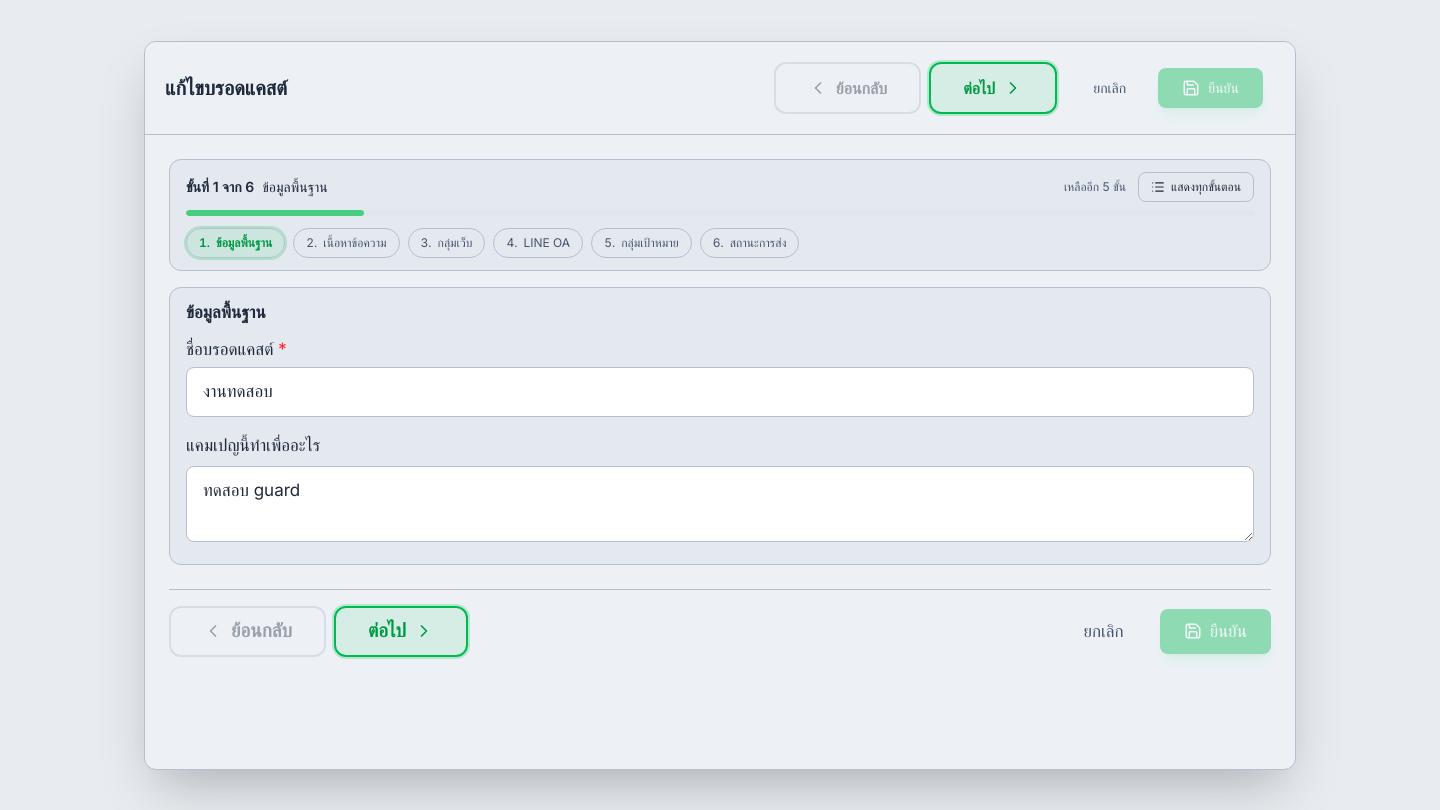
it: [GUARDWINDOW-FE] ช่องโผล่เมื่อไหร่ › ⭐⭐ multicast + rule บนคีย์ที่ติดธง ⇒ เห็นช่อง · ค่าเดิมโชว์
The width and height of the screenshot is (1440, 810).
Click the button with test id "-toggle".
click(1196, 186)  # box [1138, 172, 1254, 202]
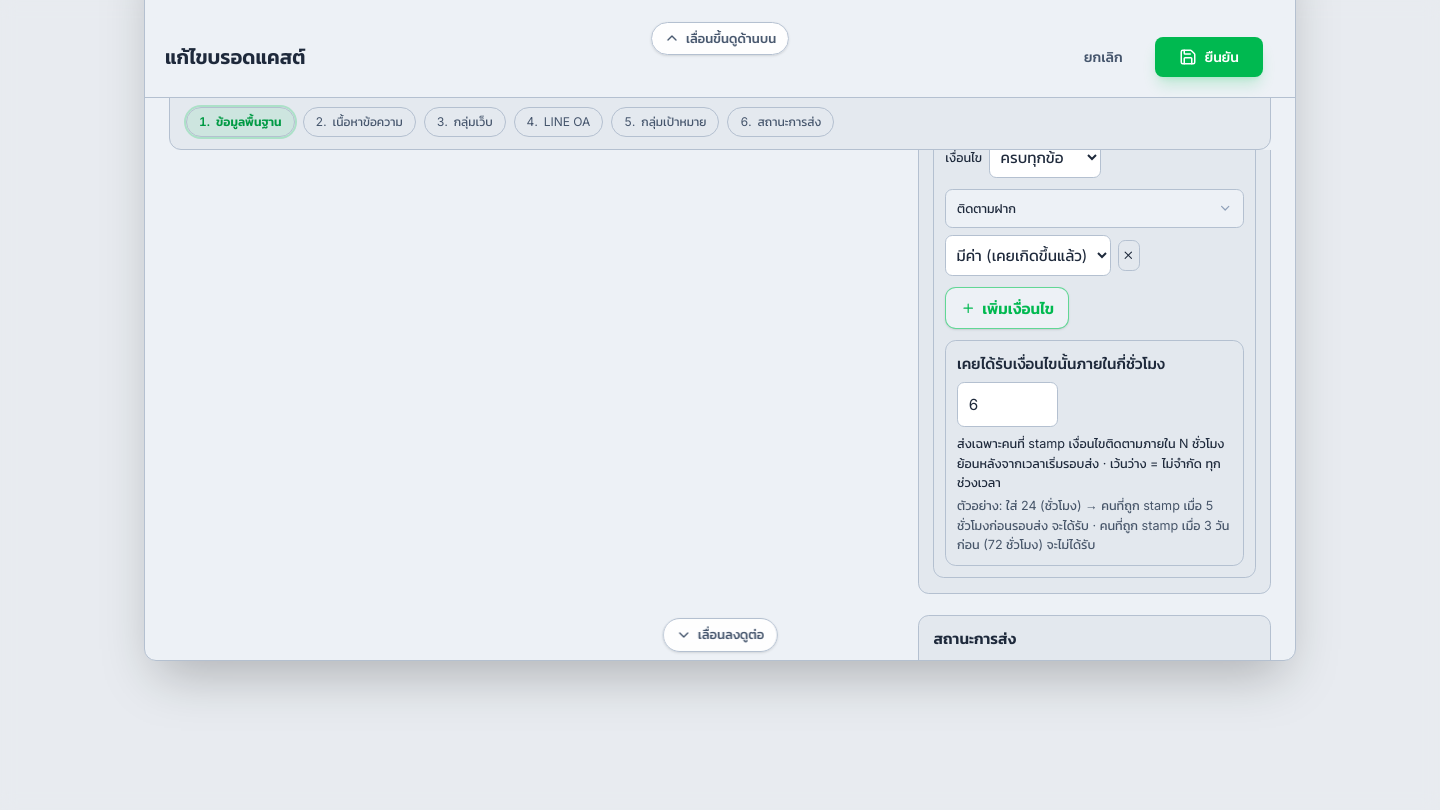
Expected: the number field named "guard_window_hours" holds "6", [957, 382, 1058, 427]
